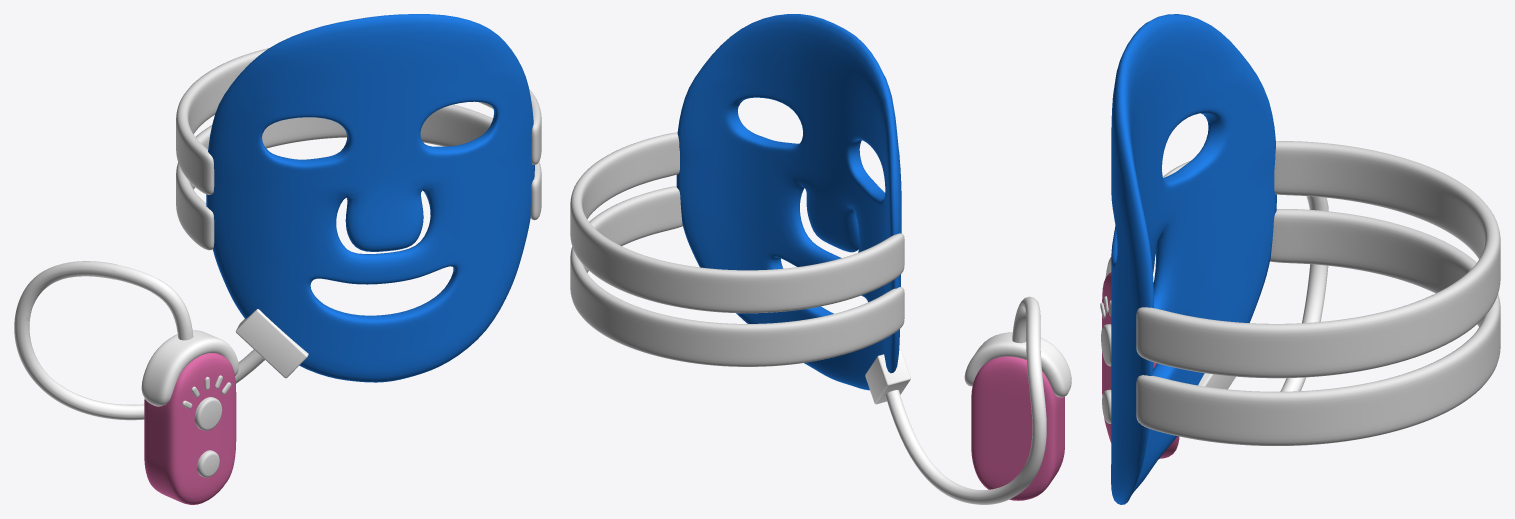
Rendered from led-face-mask-3d-animated-icon-1432556909544.glb.
3 renders of one model, left to right at view 1: azimuth 30°, elevation 25°; view 2: azimuth 150°, elevation 25°; view 3: azimuth 270°, elevation 25°, orthographic. The views are drawn at different scales.
Visible parts, largest first — view 1: Plane.010, Plane.011, Cube.009, Cylinder.043, Cylinder.041, Plane.012, Cylinder.044; view 2: Plane.010, Cylinder.041, Cylinder.043, Plane.011, Cube.009, Plane.012; view 3: Plane.010, Cylinder.041, Cylinder.043, Cube.009, Plane.011.
Boxes of the visible parts, box(x1,y1,x2,y2) form: Plane.010: box(206, 14, 534, 382); Plane.011: box(144, 353, 236, 504); Cube.009: box(14, 261, 308, 420); Cylinder.043: box(176, 104, 541, 250); Cylinder.041: box(176, 48, 541, 194); Plane.012: box(141, 330, 238, 406); Cylinder.044: box(194, 397, 222, 430); Plane.010: box(676, 14, 901, 390); Cylinder.041: box(570, 132, 904, 313); Cylinder.043: box(570, 186, 904, 366); Plane.011: box(971, 356, 1064, 500); Cube.009: box(865, 296, 1046, 504); Plane.012: box(964, 332, 1071, 397); Plane.010: box(1111, 14, 1276, 504); Cylinder.041: box(1136, 141, 1500, 378); Cylinder.043: box(1136, 209, 1500, 445); Cube.009: box(1163, 161, 1328, 391); Plane.011: box(1102, 272, 1179, 458).
Bounding box in the file's own units: 4.79 × 4.14 × 2.8.
